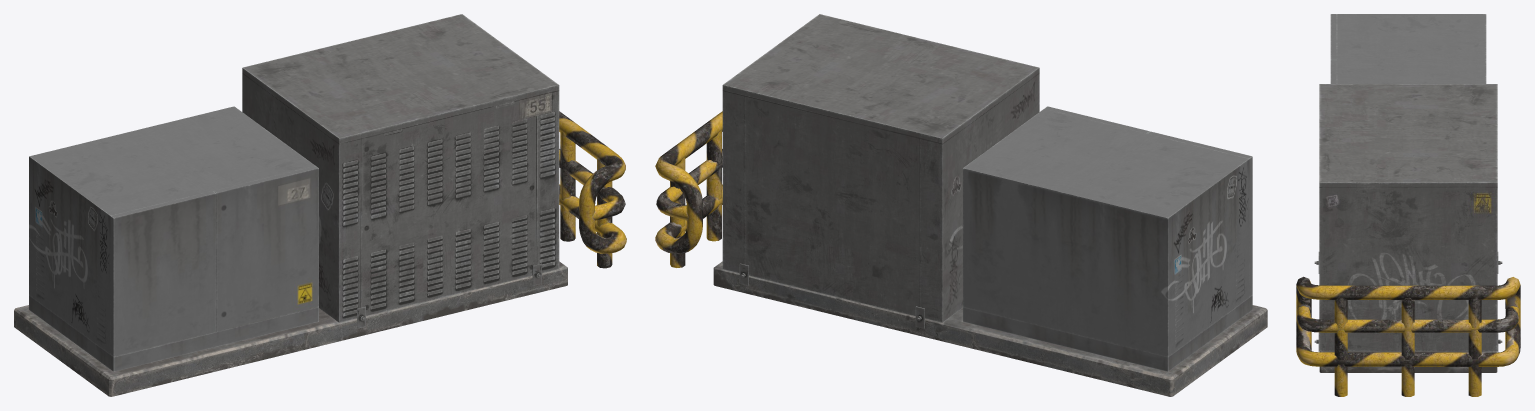
The model's file is kr_electric_boxes.glb.
The picture shows the model from 3 angles, left to right: view 1: azimuth 30°, elevation 25°; view 2: azimuth 150°, elevation 25°; view 3: azimuth 270°, elevation 25°; orthographic projection. The views are drawn at different scales.
Parts seen in each view (by area): view 1: electric_box_low (×6), pCube1; view 2: electric_box_low (×5), pCube1; view 3: pCube1, electric_box_low (×4).
Part boxes in pixels (x1=…): electric_box_low (×6): x1=14, y1=106, x2=626, y2=396; pCube1: x1=242, y1=14, x2=559, y2=322; electric_box_low (×5): x1=655, y1=108, x2=1267, y2=396; pCube1: x1=722, y1=14, x2=1039, y2=322; pCube1: x1=1319, y1=84, x2=1497, y2=351; electric_box_low (×4): x1=1296, y1=14, x2=1520, y2=396.
Bounding box in the file's own units: 350 × 132 × 145.
4 materials, 4 textured.
